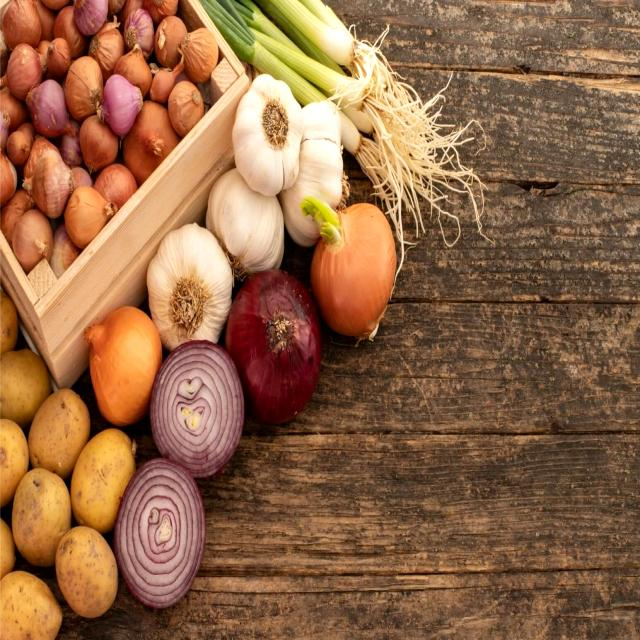garlic: (146, 211, 234, 356), (227, 57, 307, 198)
onion: (104, 452, 218, 612), (222, 263, 327, 432), (144, 326, 251, 480), (304, 184, 400, 349), (78, 298, 167, 435), (21, 139, 80, 211), (6, 197, 57, 279), (61, 180, 118, 249), (22, 75, 73, 145), (96, 70, 144, 142), (160, 72, 207, 136), (41, 28, 76, 76)
potato: (67, 417, 141, 534), (10, 457, 73, 571), (52, 524, 122, 621), (24, 379, 92, 476)
